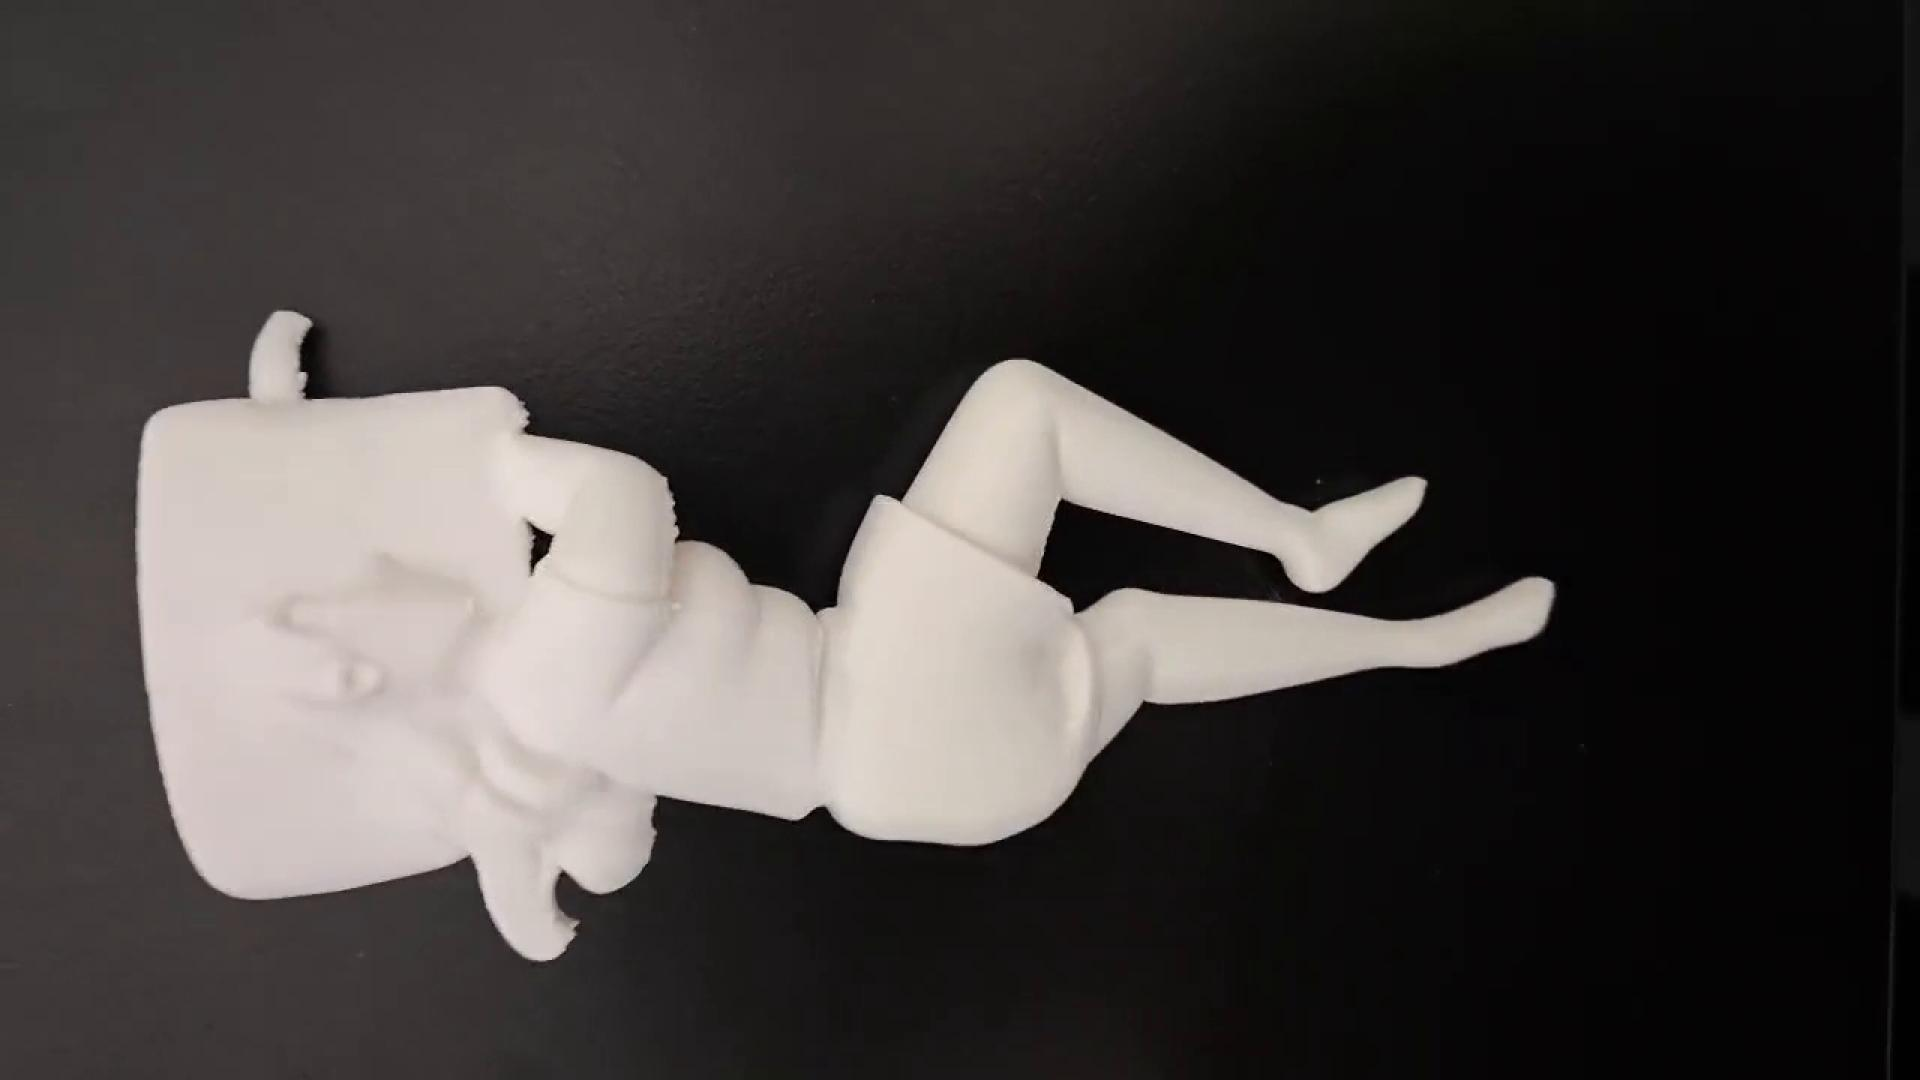Good-style: (123, 293, 1561, 975)
